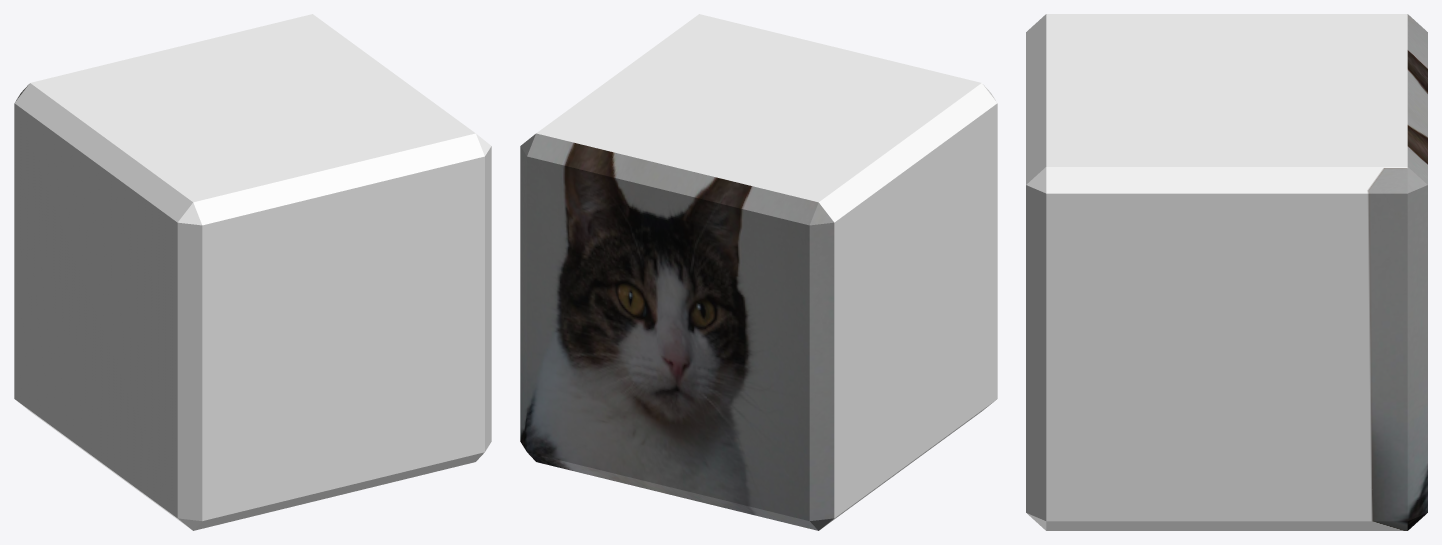
Rendered from JeffersSad3.obj.
3 views of the same model, side by side, from view 1: azimuth 30°, elevation 25°; view 2: azimuth 150°, elevation 25°; view 3: azimuth 270°, elevation 25° (orthographic). The views are drawn at different scales.
Parts seen in each view (by area): view 1: pCube1; view 2: pCube1; view 3: pCube1.
Boxes of the visible parts, <box> form: pCube1: <box>14,14,491,530</box>; pCube1: <box>520,14,997,530</box>; pCube1: <box>1026,14,1427,530</box>.
Size of the model in its own units: 4.61 by 4.61 by 4.61.
1 material, 1 textured.
